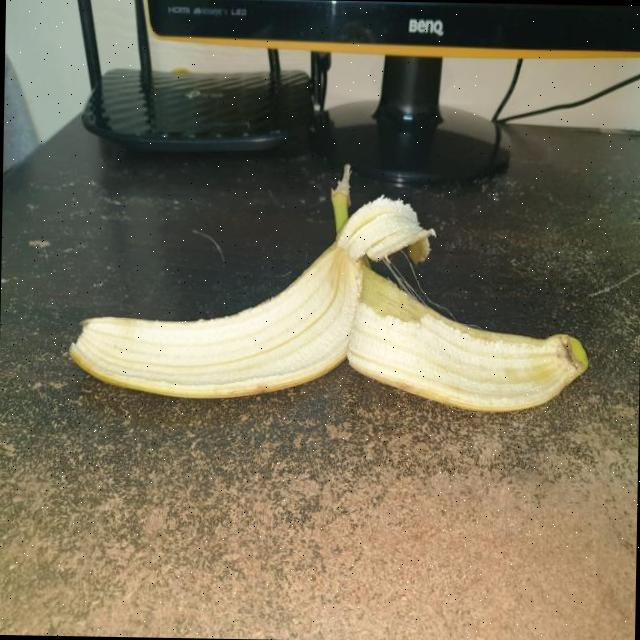banana-peel: (66, 158, 592, 414), (344, 256, 590, 414)
